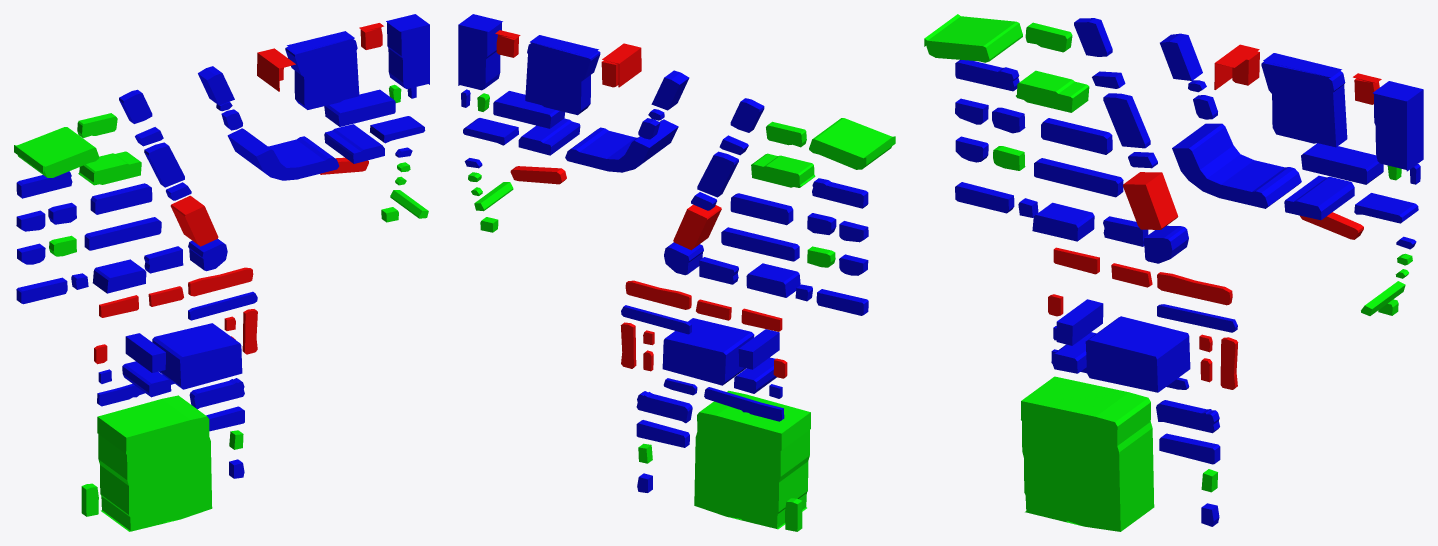
The picture shows the model from 3 angles, left to right: view 1: azimuth 30°, elevation 25°; view 2: azimuth 150°, elevation 25°; view 3: azimuth 330°, elevation 25°; orthographic projection. The views are drawn at different scales.
Parts seen in each view (by area): view 1: building_56, building_2, building_49, building_19, building_4, building_9, building_17, building_20, building_13, building_27, building_31, building_37 (+27 smaller); view 2: building_56, building_2, building_49, building_19, building_4, building_9, building_13, building_17, building_31, building_20, building_37, building_27 (+27 smaller); view 3: building_56, building_2, building_49, building_19, building_4, building_9, building_27, building_17, building_13, building_20, building_31, building_37 (+28 smaller).
Boxes of the visible parts, x1,y1,x2,y2 form: building_56: [97, 395, 212, 531]; building_2: [285, 31, 359, 109]; building_49: [152, 323, 242, 389]; building_19: [227, 128, 339, 180]; building_4: [386, 14, 429, 88]; building_9: [14, 127, 99, 177]; building_17: [324, 89, 395, 126]; building_20: [324, 124, 384, 163]; building_13: [78, 151, 141, 185]; building_27: [170, 195, 218, 246]; building_31: [84, 217, 161, 250]; building_37: [92, 259, 146, 293]; building_56: [694, 390, 810, 529]; building_2: [525, 35, 600, 115]; building_49: [662, 318, 754, 385]; building_19: [565, 119, 678, 172]; building_4: [458, 14, 502, 90]; building_9: [809, 118, 895, 169]; building_13: [751, 153, 815, 187]; building_17: [493, 91, 564, 128]; building_31: [721, 227, 799, 261]; building_20: [518, 118, 580, 155]; building_37: [746, 263, 800, 297]; building_27: [673, 204, 721, 250]; building_56: [1021, 376, 1154, 531]; building_2: [1261, 53, 1347, 147]; building_49: [1085, 316, 1190, 392]; building_19: [1172, 123, 1301, 208]; building_4: [1373, 81, 1423, 171]; building_9: [924, 14, 1022, 62]; building_27: [1123, 172, 1178, 229]; building_17: [1301, 143, 1383, 184]; building_13: [1016, 70, 1089, 112]; building_20: [1284, 175, 1354, 220]; building_31: [1034, 158, 1123, 197]; building_37: [1032, 202, 1094, 241].
Size of the model in its own units: 2047 by 2047 by 255.
